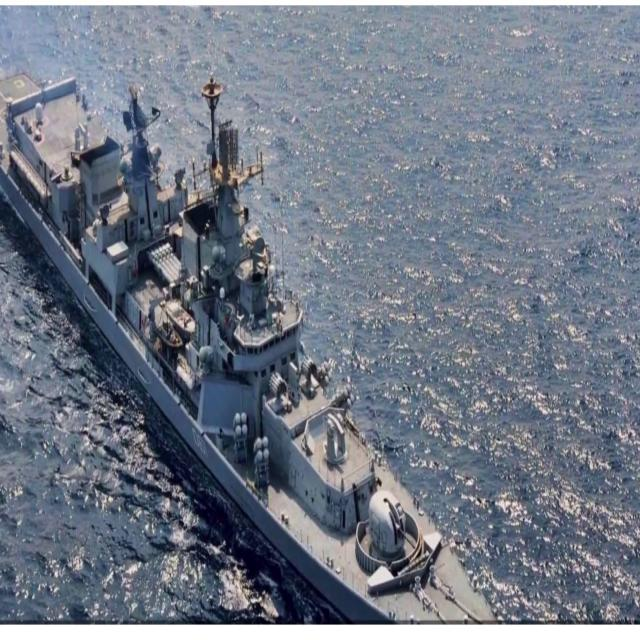OCR: (188, 422, 214, 470)
